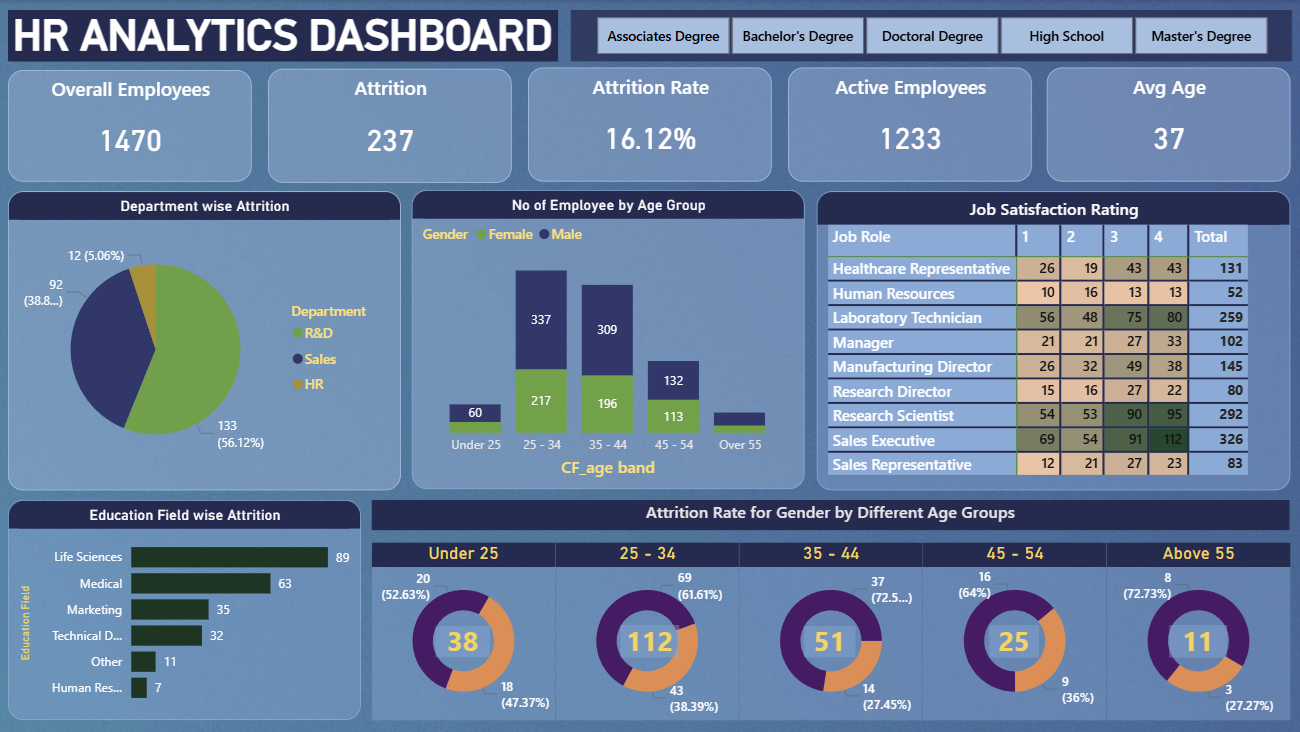

Layout of this report page (visuals, bound fields, positions):
{"tool":"powerbi","page":{"name":"Page 1","canvas":[1280,720],"ordinal":0},"visuals":[{"type":"card","title":"Overall Employees","fields":{"Values":["Sum(HR data.Employee Count)"]},"box":[9.8,68.7,239.3,109.2],"z":0},{"type":"card","title":"Attrition","fields":{"Values":["Sum(HR data.Attrition Count)"]},"box":[265,67.5,239.3,111.7],"z":1000},{"type":"card","title":"Attrition Rate","fields":{"Values":["HR data.Attrition Rate"]},"box":[520.2,66.3,239.3,111.7],"z":2000},{"type":"card","title":"Active Employees","fields":{"Values":["HR data.Active Employees"]},"box":[775.5,66.3,239.3,111.7],"z":3000},{"type":"card","title":"Avg Age","fields":{"Values":["Avg(HR data.Age)"]},"box":[1029.5,66.3,239.3,111.7],"z":4000},{"type":"pieChart","title":"Department wise Attrition","fields":{"Category":["HR data.Department"],"Y":["Sum(HR data.Attrition Count)"]},"box":[9.8,187.7,385.3,293.3],"z":5000},{"type":"columnChart","title":"No of Employee by Age Group","fields":{"Category":["HR data.CF_age band"],"Y":["Sum(HR data.Employee Count)"],"Series":["HR data.Gender"]},"box":[406.1,186.5,385.3,293.3],"z":6000},{"type":"pivotTable","title":"Job Satisfaction Rating","fields":{"Rows":["HR data.Job Role"],"Columns":["HR data.Job Satisfaction"],"Values":["Sum(HR data.Employee Count)"]},"box":[803.7,187.7,465,293.3],"z":7000},{"type":"barChart","title":"Education Field wise Attrition","fields":{"Category":["HR data.Education Field"],"Y":["Sum(HR data.Attrition Count)"]},"box":[9.8,490.8,346,216],"z":8000},{"type":"donutChart","title":"Under 25","fields":{"Category":["HR data.Gender"],"Y":["Sum(HR data.Attrition Count)"],"Series":["HR data.CF_age band"]},"box":[366.9,532.5,180.4,174.2],"z":9000},{"type":"textbox","title":"Attrition Rate for Gender by Different Age Groups","box":[366.9,490.8,900.6,29.4],"z":10000},{"type":"donutChart","title":"25 - 34","fields":{"Category":["HR data.Gender"],"Y":["Sum(HR data.Attrition Count)"],"Series":["HR data.CF_age band"]},"box":[547.2,532.5,180.4,174.2],"z":11000},{"type":"donutChart","title":"Above 55","fields":{"Category":["HR data.Gender"],"Y":["Sum(HR data.Attrition Count)"],"Series":["HR data.CF_age band"]},"box":[1088.3,532.5,180.4,174.2],"z":12000},{"type":"donutChart","title":"45 - 54","fields":{"Category":["HR data.Gender"],"Y":["Sum(HR data.Attrition Count)"],"Series":["HR data.CF_age band"]},"box":[908,532.5,180.4,174.2],"z":13000},{"type":"donutChart","title":"35 - 44","fields":{"Category":["HR data.Gender"],"Y":["Sum(HR data.Attrition Count)"],"Series":["HR data.CF_age band"]},"box":[727.6,532.5,180.4,174.2],"z":14000},{"type":"card","fields":{"Values":["Sum(HR data.Attrition Count)"]},"box":[429.5,614.7,54,30.7],"z":15000},{"type":"card","fields":{"Values":["Sum(HR data.Attrition Count)"]},"box":[973,613.5,49.1,31.9],"z":16000},{"type":"card","fields":{"Values":["Sum(HR data.Attrition Count)"]},"box":[791.4,614.7,50.3,30.7],"z":17000},{"type":"card","fields":{"Values":["Sum(HR data.Attrition Count)"]},"box":[611,613.5,57.7,31.9],"z":18000},{"type":"card","fields":{"Values":["Sum(HR data.Attrition Count)"]},"box":[1149.7,613.5,56.4,31.9],"z":19000},{"type":"textbox","title":"HR ANALYTICS DASHBOARD","box":[9.8,9.8,539.9,50.3],"z":20000},{"type":"slicer","fields":{"Values":["HR data.Education"]},"box":[562,9.8,708,50.3],"z":21000}]}

Visuals, with their boxes in screenshot pixels (x1, y1, x2, y2), scaled from the page's 1280x720 canvas onto the 1300x732 screenshot:
"Overall Employees" card: [10,70,253,181]
"Attrition" card: [269,69,512,182]
"Attrition Rate" card: [528,67,771,181]
"Active Employees" card: [788,67,1031,181]
"Avg Age" card: [1046,67,1289,181]
"Department wise Attrition" pieChart: [10,191,401,489]
"No of Employee by Age Group" columnChart: [412,190,804,488]
"Job Satisfaction Rating" pivotTable: [816,191,1289,489]
"Education Field wise Attrition" barChart: [10,499,361,719]
"Under 25" donutChart: [373,541,556,718]
"Attrition Rate for Gender by Different Age Groups" textbox: [373,499,1287,529]
"25 - 34" donutChart: [556,541,739,718]
"Above 55" donutChart: [1105,541,1289,718]
"45 - 54" donutChart: [922,541,1105,718]
"35 - 44" donutChart: [739,541,922,718]
card - Sum(HR data.Attrition Count): [436,625,491,656]
card - Sum(HR data.Attrition Count): [988,624,1038,656]
card - Sum(HR data.Attrition Count): [804,625,855,656]
card - Sum(HR data.Attrition Count): [621,624,679,656]
card - Sum(HR data.Attrition Count): [1168,624,1225,656]
"HR ANALYTICS DASHBOARD" textbox: [10,10,558,61]
slicer - HR data.Education: [571,10,1290,61]
